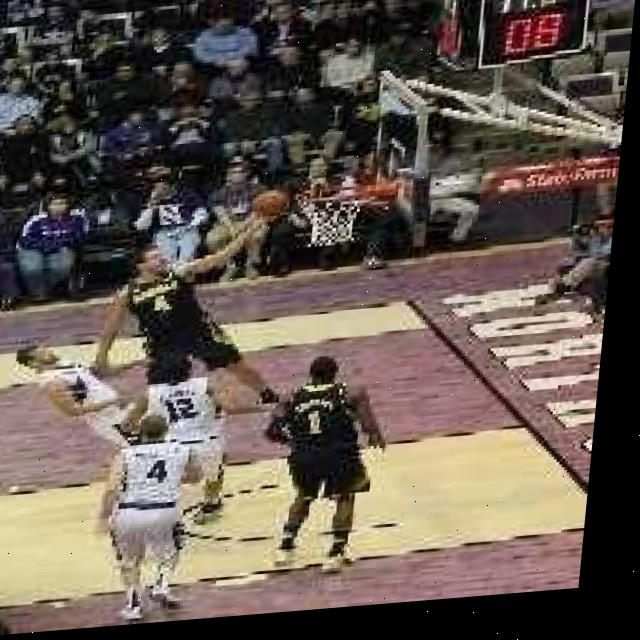basketball: (249, 186, 293, 224)
hoop: (290, 179, 380, 251)
